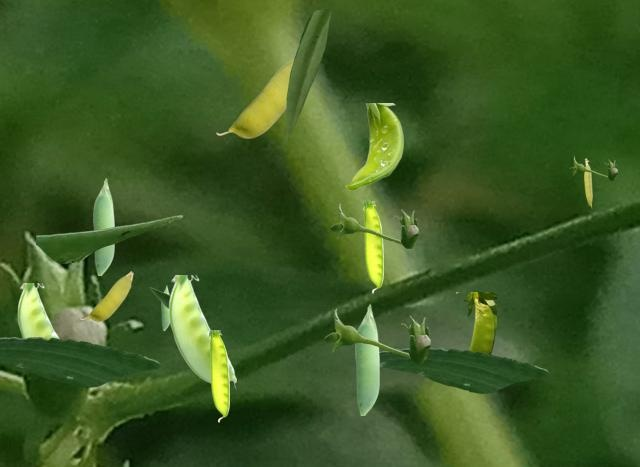pea: (168, 275, 235, 389), (216, 59, 293, 137), (345, 103, 402, 189), (80, 271, 132, 320), (355, 304, 378, 414), (456, 292, 495, 353), (17, 283, 59, 338), (93, 178, 113, 274), (363, 201, 382, 292), (209, 330, 228, 421), (161, 285, 169, 329), (584, 158, 591, 207)
